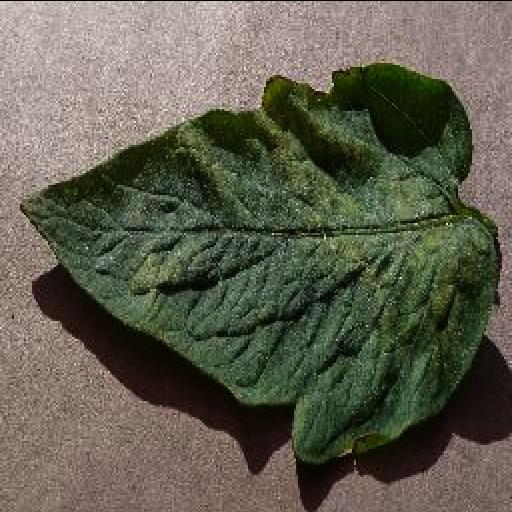disease_tomato: (18, 61, 498, 459)
